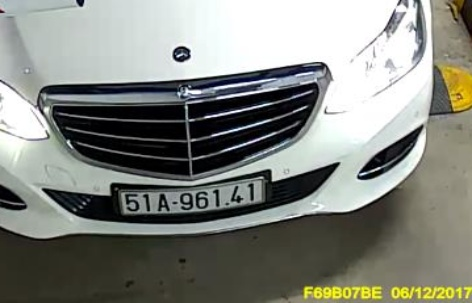plate: (109, 177, 278, 220)
